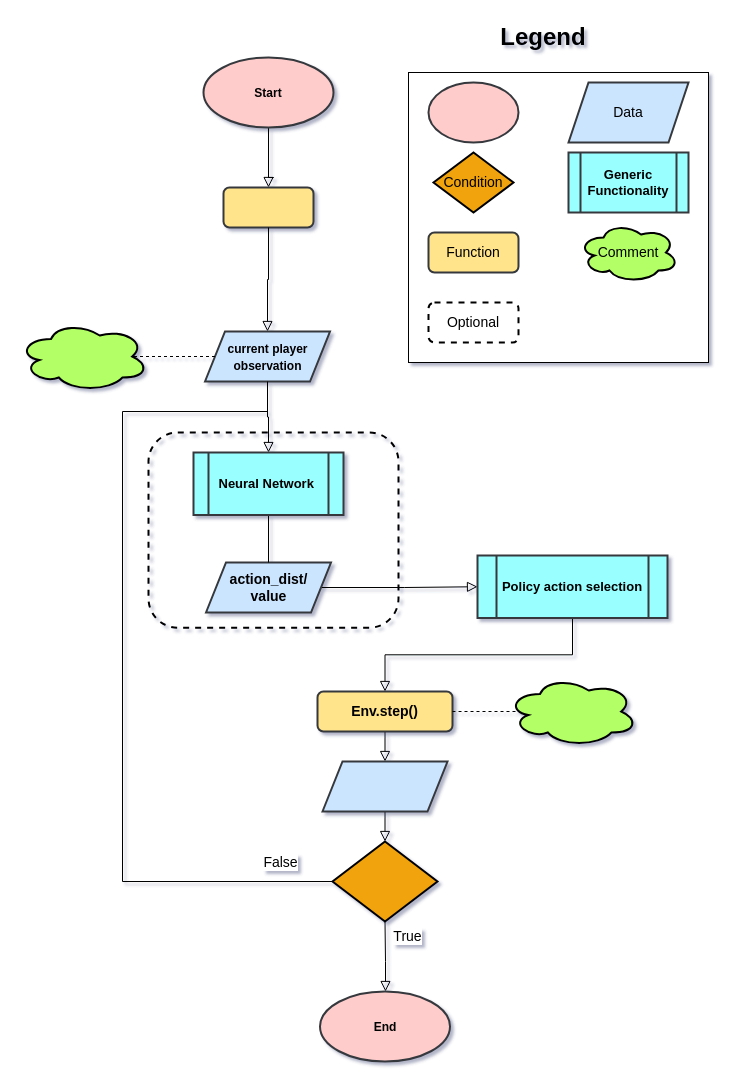
Image size: 732x1085. Some labels were removed from this diagram. Each missing label, with the centre of its shape:
Algorithm Start/End: point (473, 112)
board status + action_mask: point (83, 356)
done["_all_"]: point (384, 881)
Env.reset(): point (268, 207)
obs,reward, done,info: point (384, 786)
Switch Player: point (572, 711)
